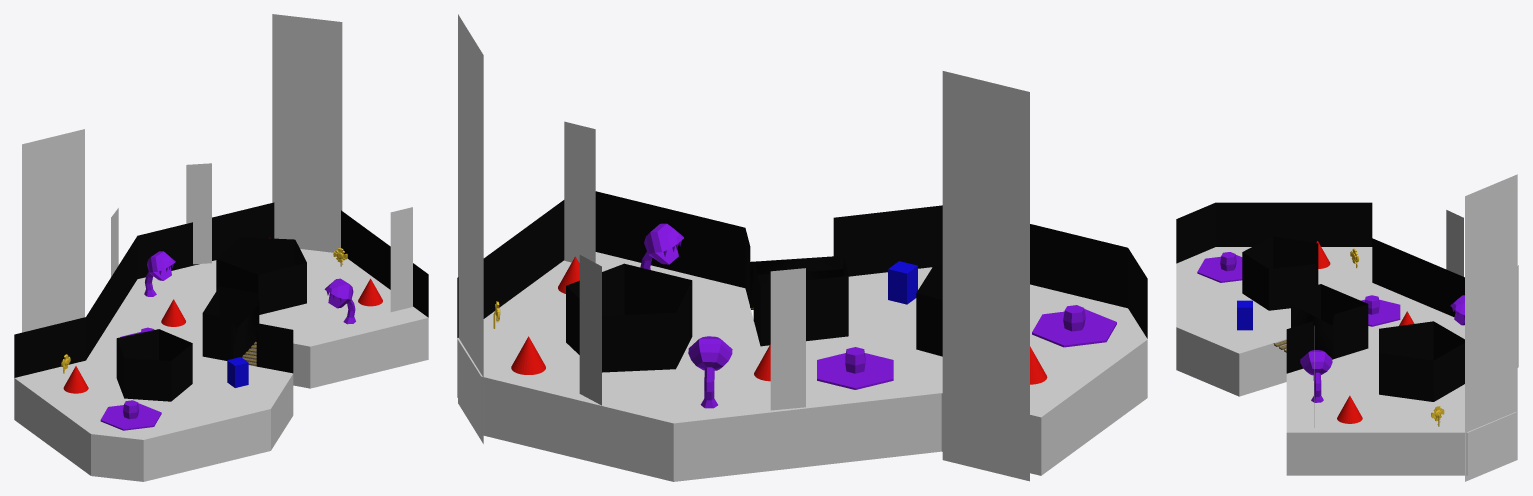
The model's file is Nuevo_N7-Pantano.fbx.
3 views of the same model, side by side, from view 1: azimuth 30°, elevation 25°; view 2: azimuth 150°, elevation 25°; view 3: azimuth 270°, elevation 25° (orthographic). The views are drawn at different scales.
Parts seen in each view (by area): view 1: Base 1-7, Limite 1-7.001, Arbol Sequoia.004, Arbol Sequoia.005, Arbol.019, Arbol.021, Barriles en Barro.014, Planta Carnivora.006, Planta Carnivora.005, Jugador.008, Arbol.020; view 2: Base 1-7, Limite 1-7.001, Arbol Sequoia.005, Arbol Sequoia.004, Arbol.020, Arbol.021, Arbol.019, Barriles en Barro.014, Barriles en Barro.013, Planta Carnivora.005, Planta Carnivora.006, Jugador.008 (+1 smaller); view 3: Base 1-7, Limite 1-7.001, Arbol Sequoia.004, Arbol.020, Barriles en Barro.014, Planta Carnivora.006, Barriles en Barro.013, Jugador.008, Spawn.023.
Part boxes in pixels (x1,y1,x2,y2): Base 1-7: (14, 249, 428, 481); Limite 1-7.001: (14, 202, 428, 401); Arbol Sequoia.004: (272, 14, 342, 252); Arbol Sequoia.005: (22, 129, 84, 332); Arbol.019: (186, 163, 211, 264); Arbol.021: (390, 207, 412, 311); Barriles en Barro.014: (100, 400, 161, 430); Planta Carnivora.006: (324, 278, 355, 324); Planta Carnivora.005: (144, 251, 175, 296); Jugador.008: (227, 357, 248, 387); Arbol.020: (111, 208, 118, 276); Base 1-7: (457, 252, 1147, 481); Limite 1-7.001: (457, 191, 1147, 372); Arbol Sequoia.005: (942, 71, 1029, 481); Arbol Sequoia.004: (458, 14, 483, 443); Arbol.020: (770, 268, 805, 410); Arbol.021: (564, 121, 595, 262); Arbol.019: (579, 255, 601, 405); Barriles en Barro.014: (1032, 305, 1116, 347); Barriles en Barro.013: (817, 347, 893, 389); Planta Carnivora.005: (688, 336, 732, 408); Planta Carnivora.006: (640, 223, 683, 269); Jugador.008: (888, 261, 917, 304); Base 1-7: (1176, 247, 1516, 475); Limite 1-7.001: (1176, 202, 1464, 401); Arbol Sequoia.004: (1465, 174, 1517, 481); Arbol.020: (1446, 210, 1463, 276); Barriles en Barro.014: (1197, 252, 1242, 282); Planta Carnivora.006: (1300, 350, 1332, 402); Barriles en Barro.013: (1361, 295, 1400, 326); Jugador.008: (1237, 300, 1252, 330); Spawn.023: (1337, 395, 1362, 423).
Size of the model in its own units: 1860 by 1331 by 1445.
